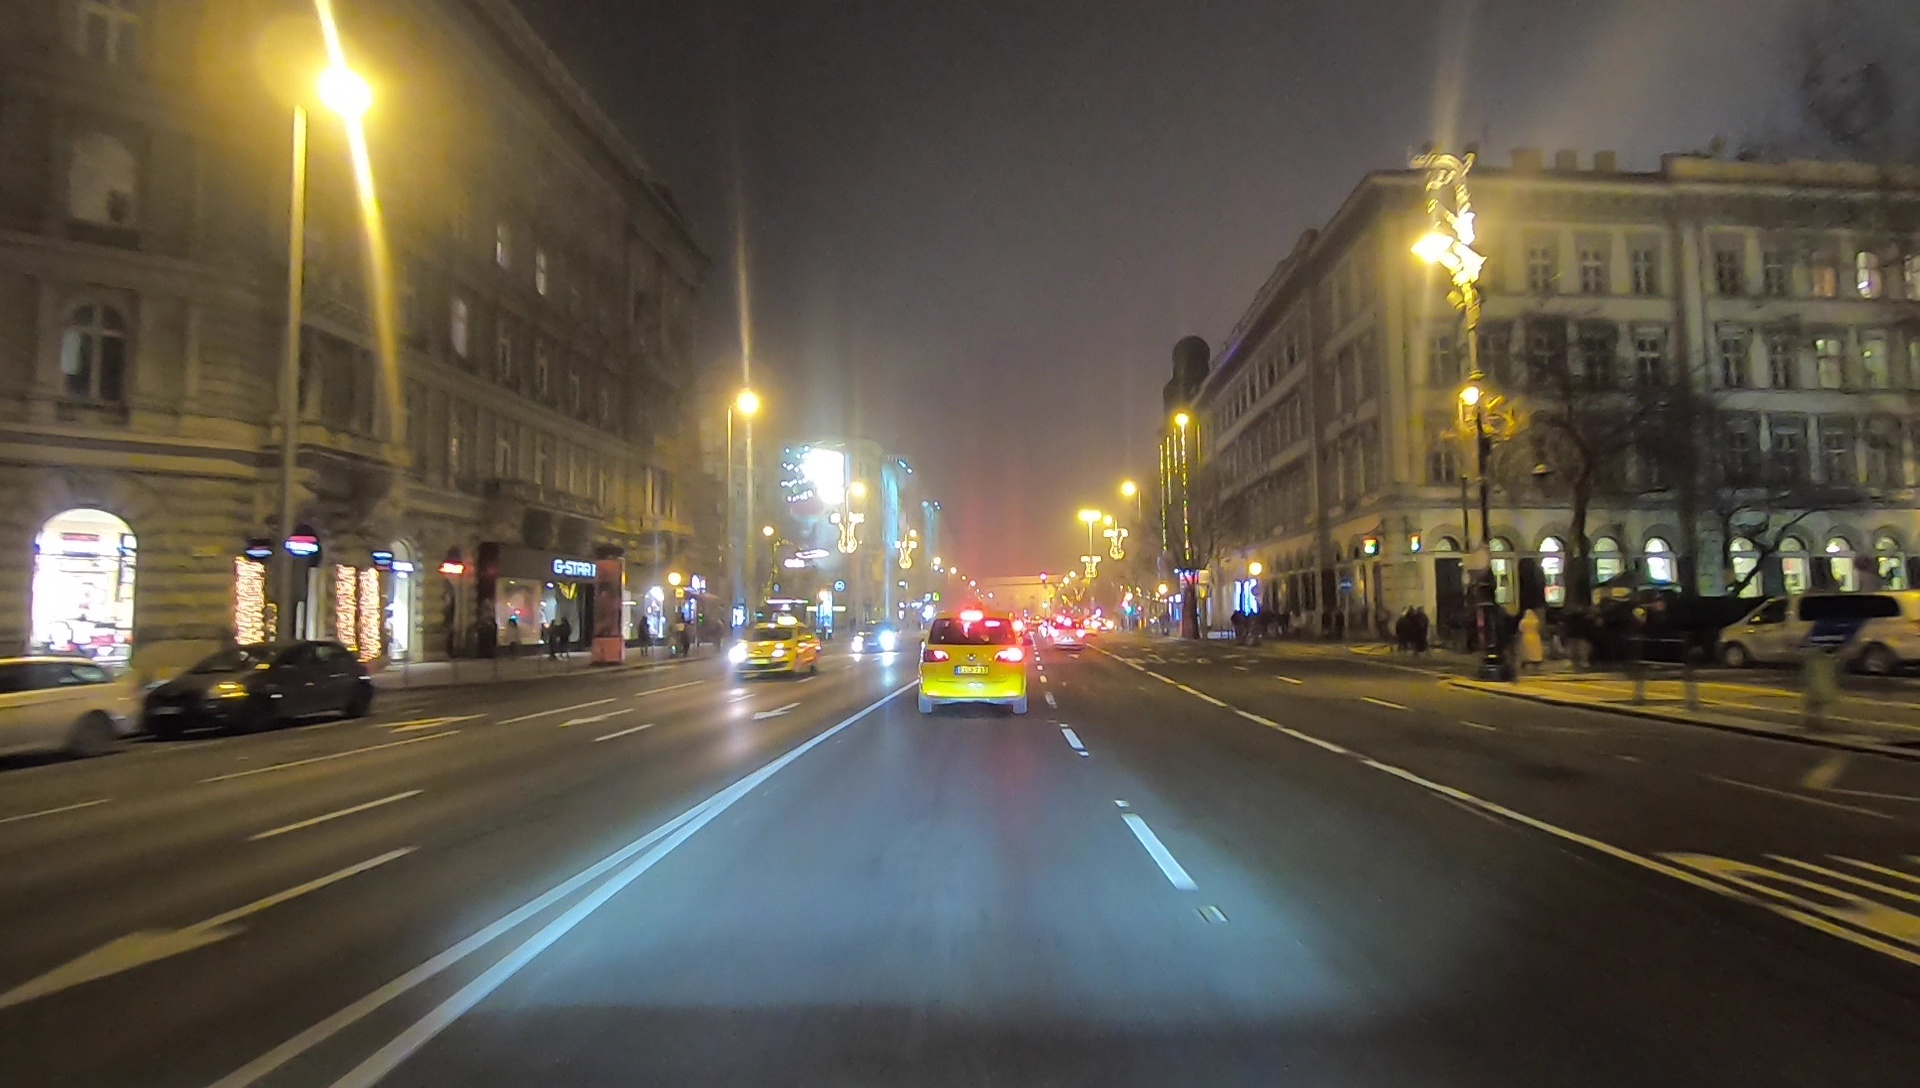person: (1521, 608, 1541, 680), (1414, 604, 1430, 658), (558, 615, 573, 658), (636, 613, 651, 654), (1399, 604, 1410, 658)
